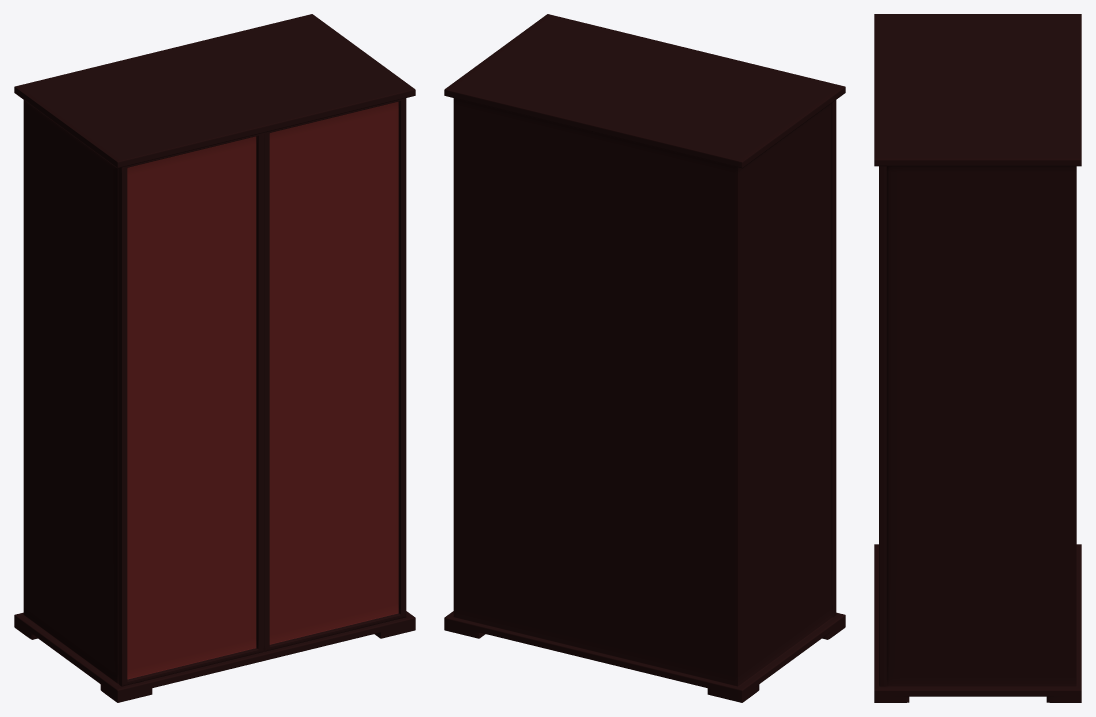
Rendered from Wardrobe.FBX.
3 renders of one model, left to right at view 1: azimuth 30°, elevation 25°; view 2: azimuth 150°, elevation 25°; view 3: azimuth 270°, elevation 25°, orthographic.
Parts seen in each view (by area): view 1: Wardrobe; view 2: Wardrobe; view 3: Wardrobe.
Part boxes in pixels (x1,y1,x2,y2): Wardrobe: (14,14,415,702); Wardrobe: (444,14,845,702); Wardrobe: (874,14,1081,702).
Bounding box in the file's own units: 57.88 × 100 × 34.74.
